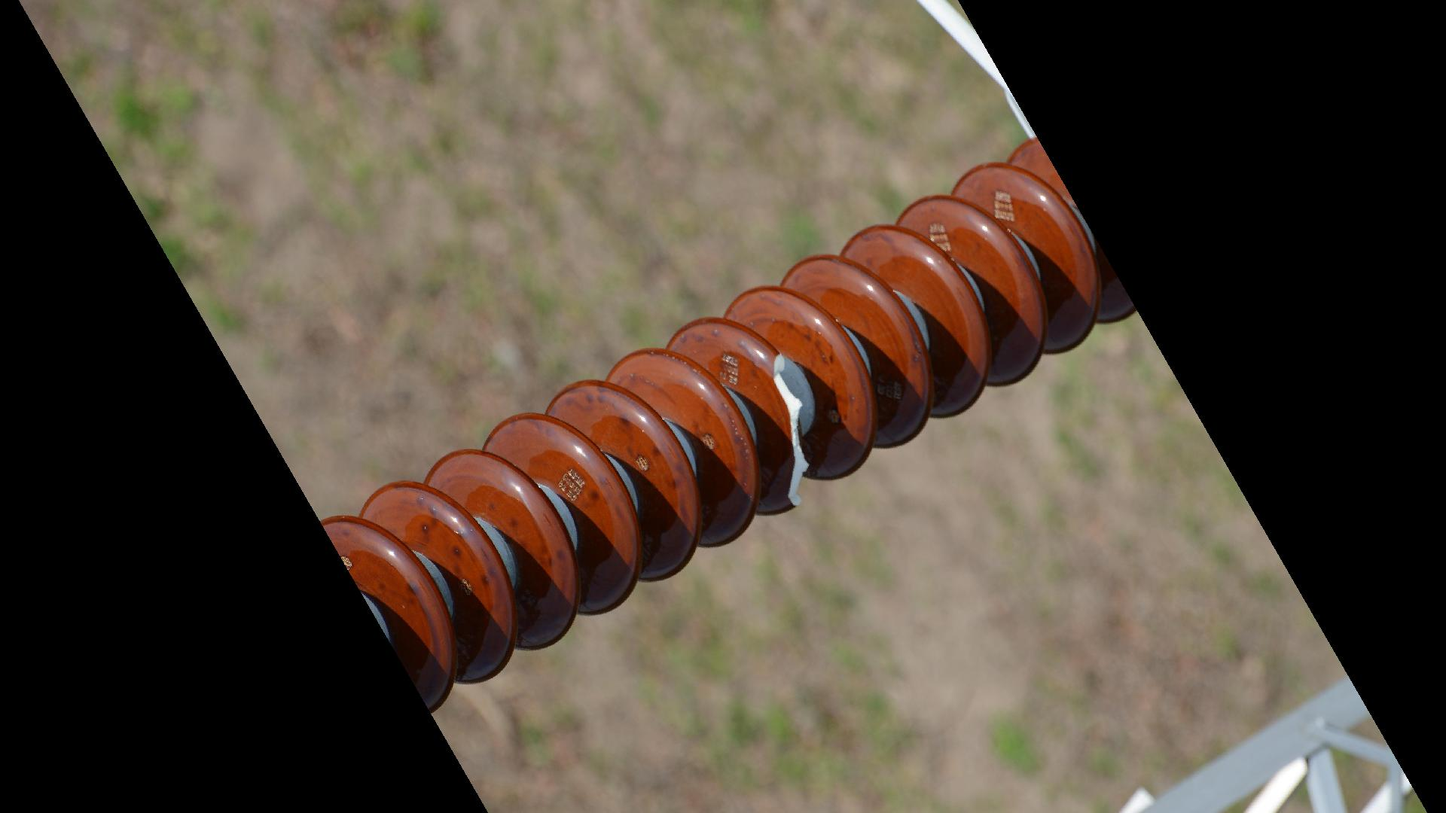insulator: (320, 133, 1141, 715)
insulator_breakage: (758, 339, 822, 519)
